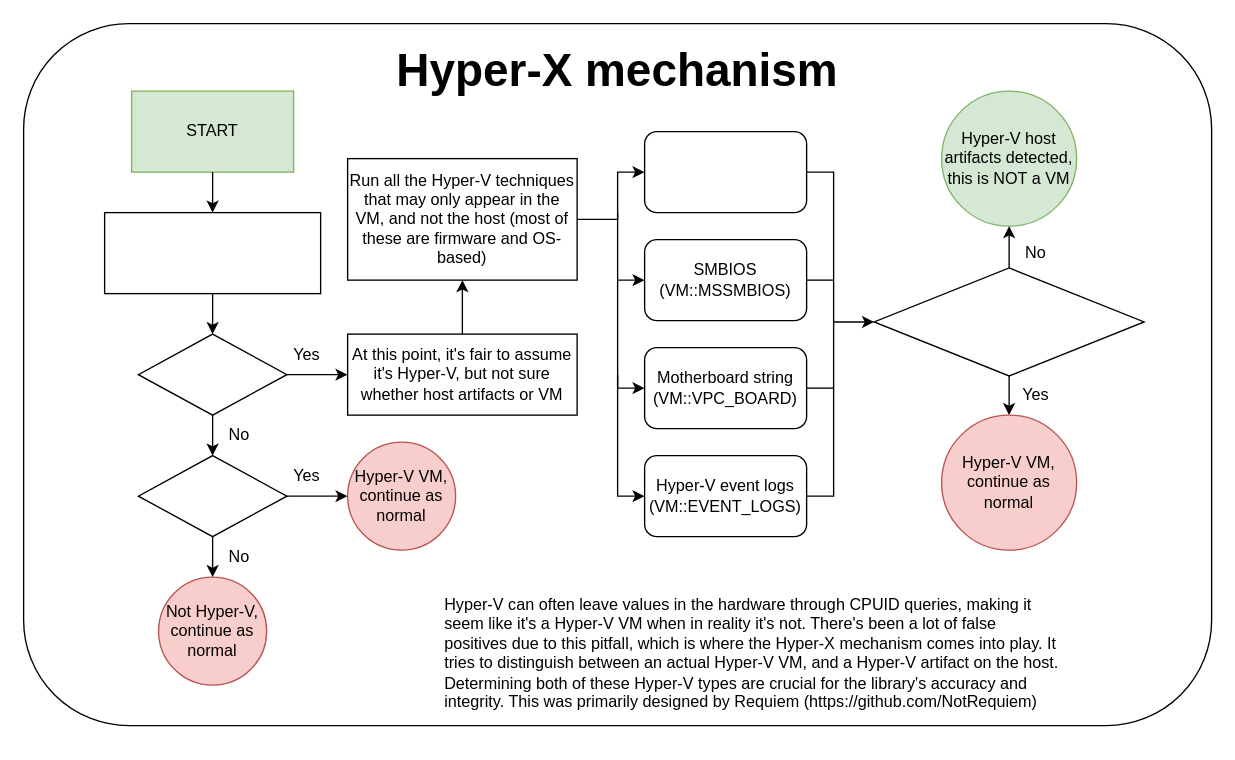
The diagram is 1235 pixels wide and 760 high, and some of its shapes have lost their labels. Each missing label, with the centre of its shape:
"AcpiData" goes at (x=725, y=171).
"Do any of these return true?" goes at (x=1008, y=321).
"is eax 11?" goes at (x=212, y=495).
"is eax 12?" goes at (x=212, y=374).
"Run the VM::HYPERVISOR_STR technique, fetch eax" goes at (x=212, y=252).
